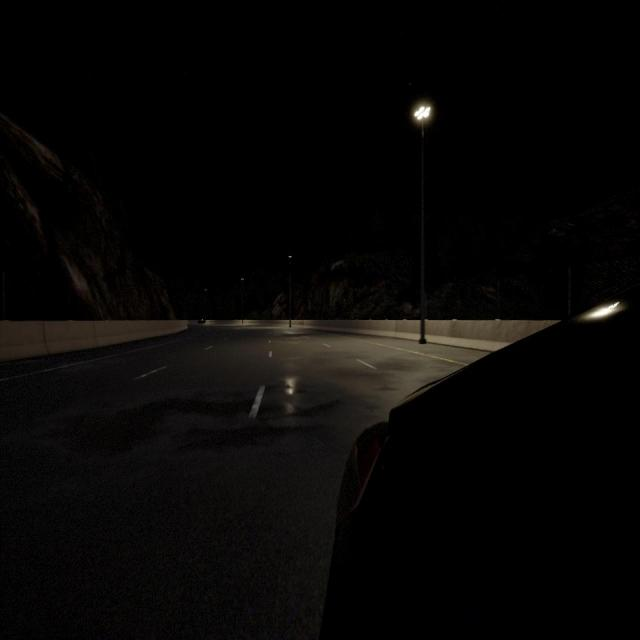Vehicle: (321, 287, 639, 637)
